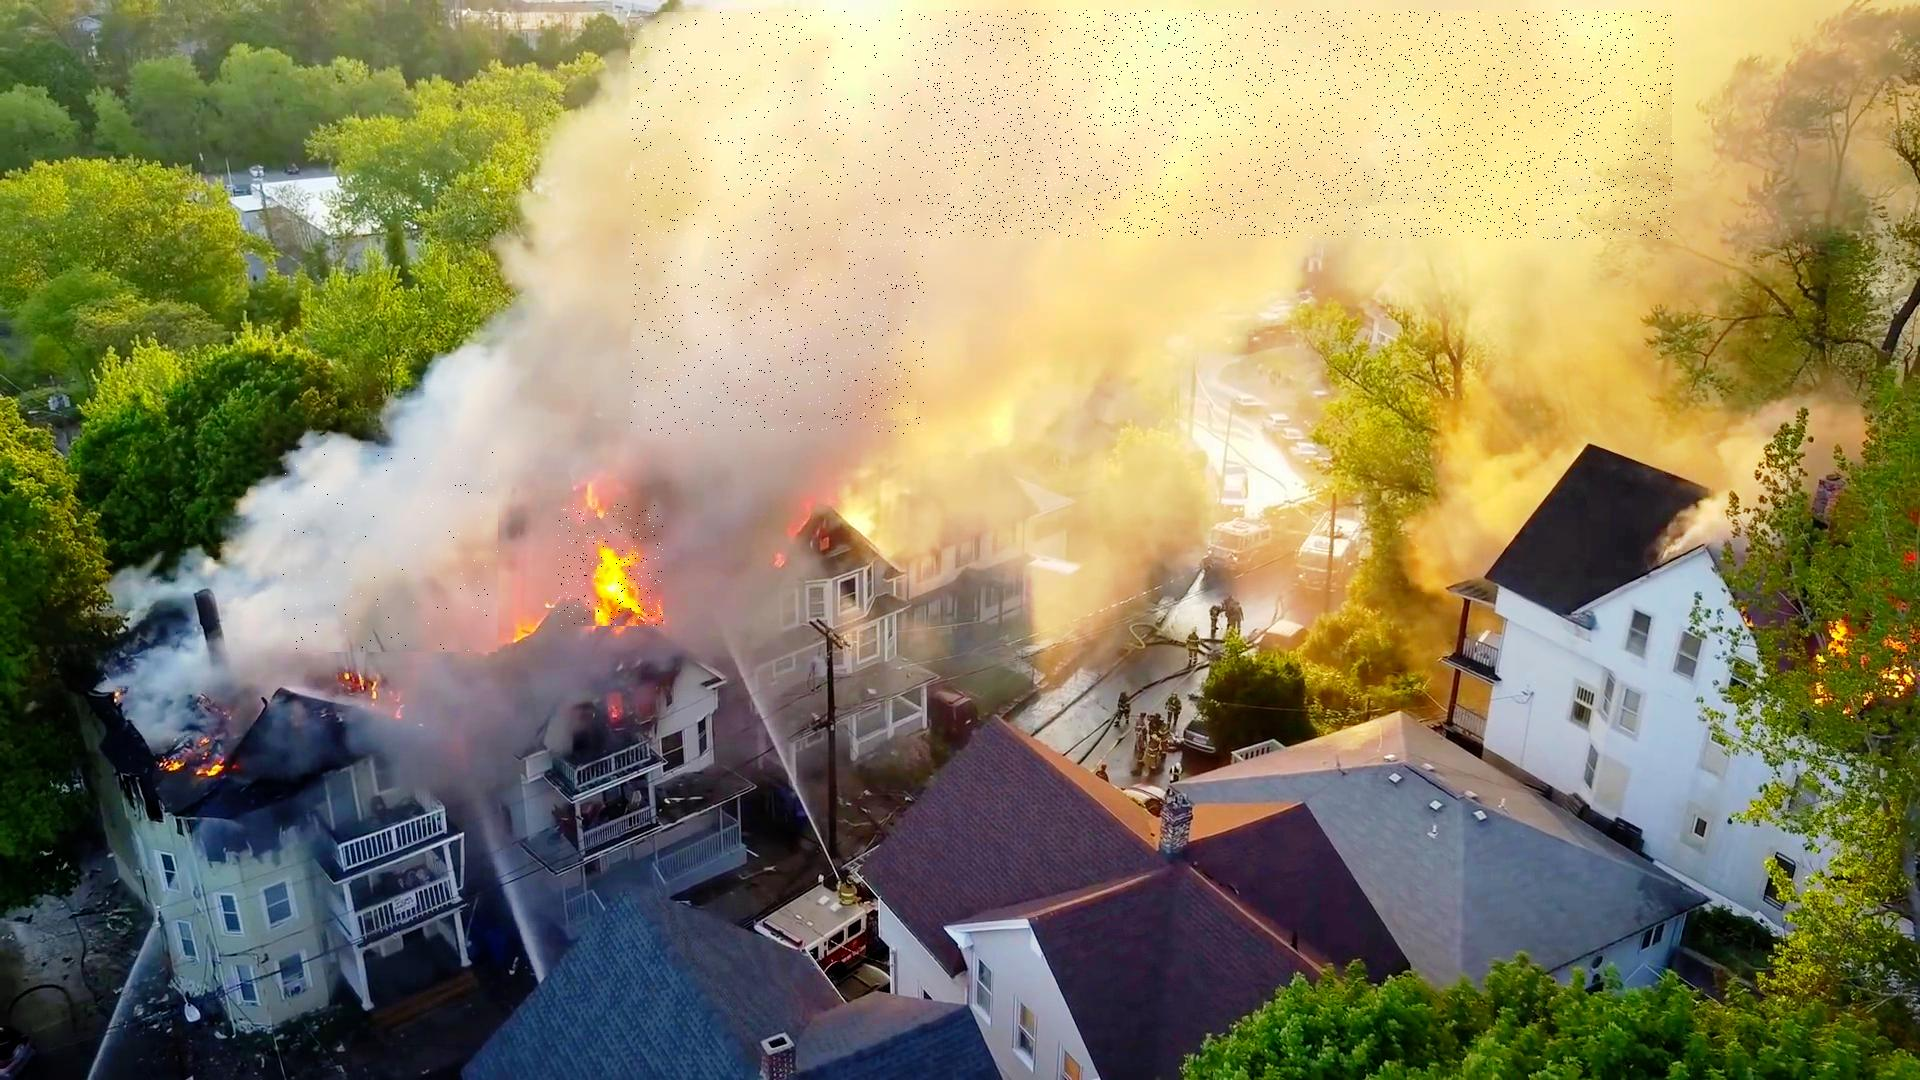fire: (558, 504, 663, 626)
smoke: (720, 11, 1675, 239), (630, 13, 926, 435), (284, 448, 501, 653)
